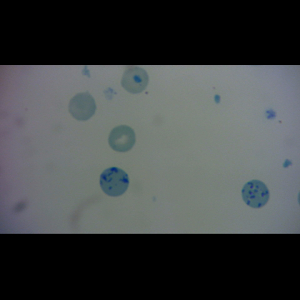aggregate reticulocyte: (98, 166, 131, 198), (240, 179, 271, 209)
erythrocyte: (66, 91, 98, 122), (107, 124, 138, 154), (119, 66, 150, 95)
